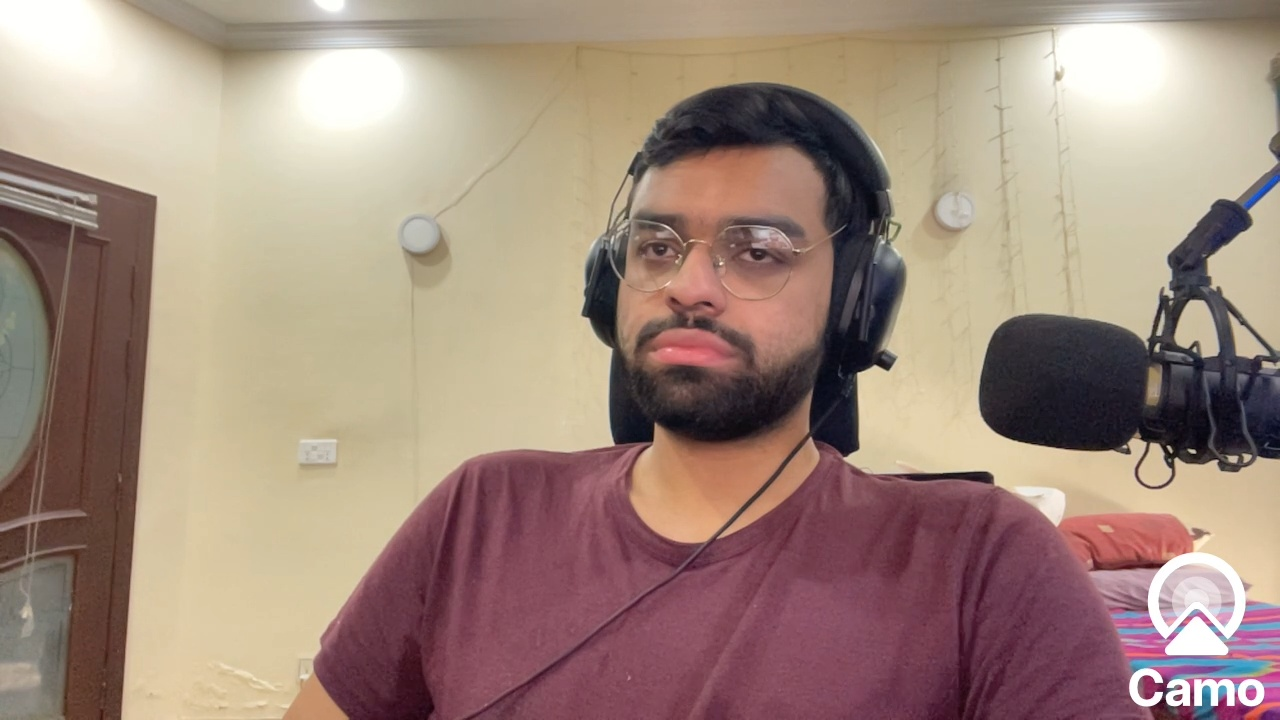neutral: (607, 136, 830, 432)
